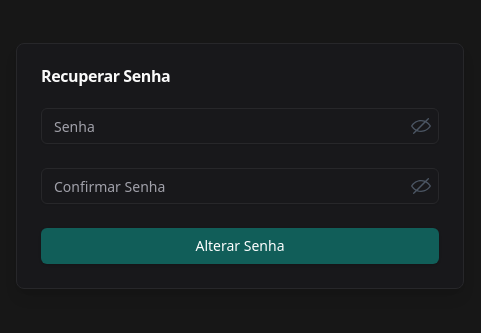
Test: Modify Password › should display validation error for empty password fields
Click the submit button: (240, 246) 41,228 -> 439,264
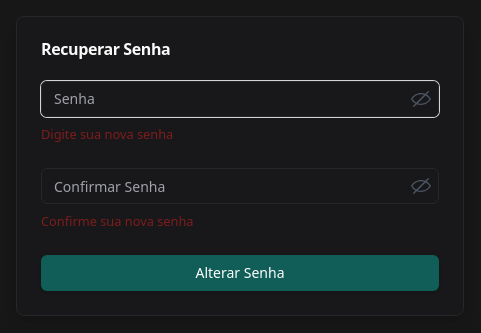
Result: the text "Digite sua nova senha" is shown at 41,125 -> 173,143
Result: the text "Confirme sua nova senha" is shown at 41,212 -> 194,230
